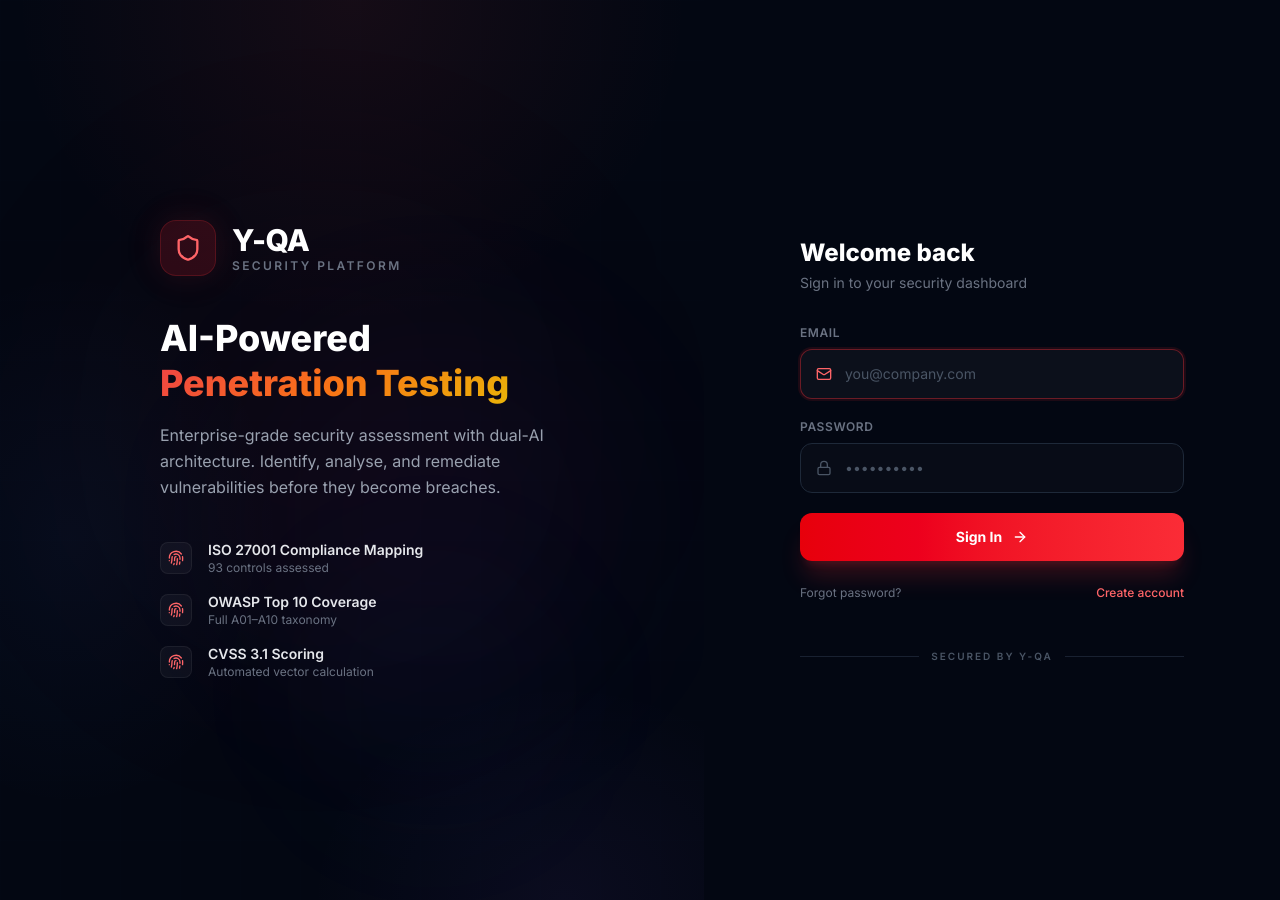
Test: Login › shows error message on login failure
Type "bad@example.com" into the field with placeholder "you@company.com".
click(992, 374); type("bad@example.com")  # box [800, 348, 1184, 398]
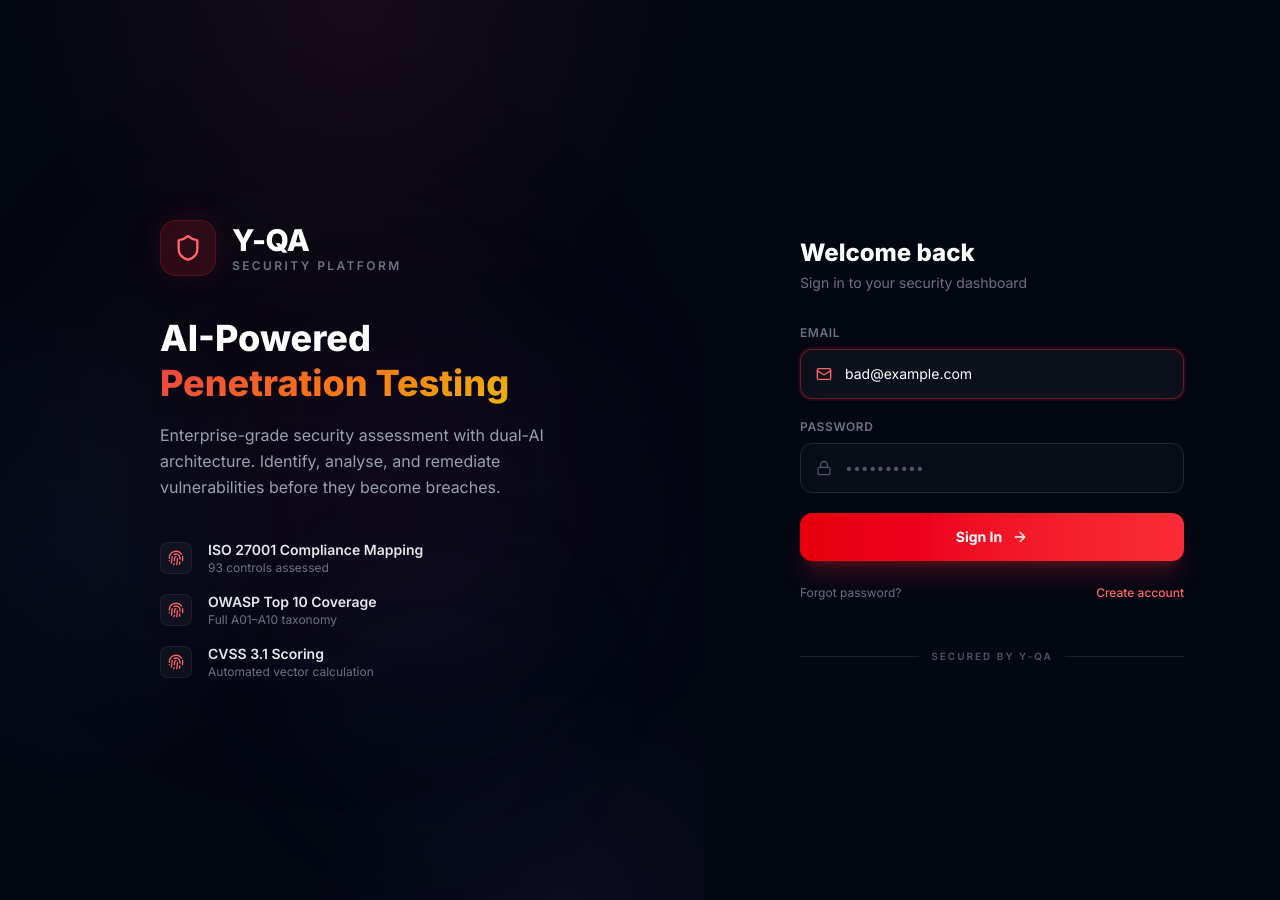
Type "wrongpass" into the password field with placeholder "••••••••••".
click(992, 468); type("wrongpass")  # box [800, 442, 1184, 492]
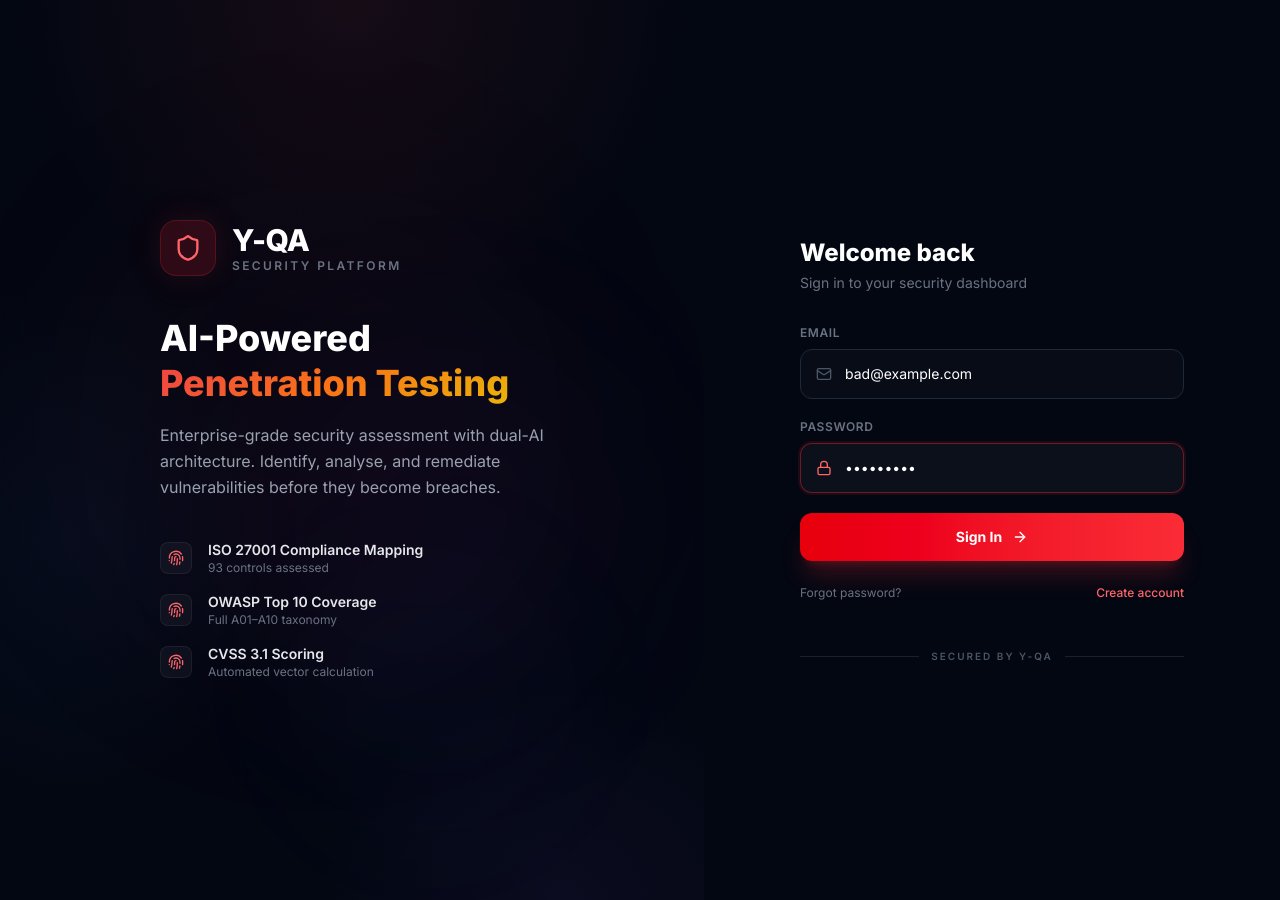
Click the button "Sign In".
click(992, 536)  # box [800, 512, 1184, 560]
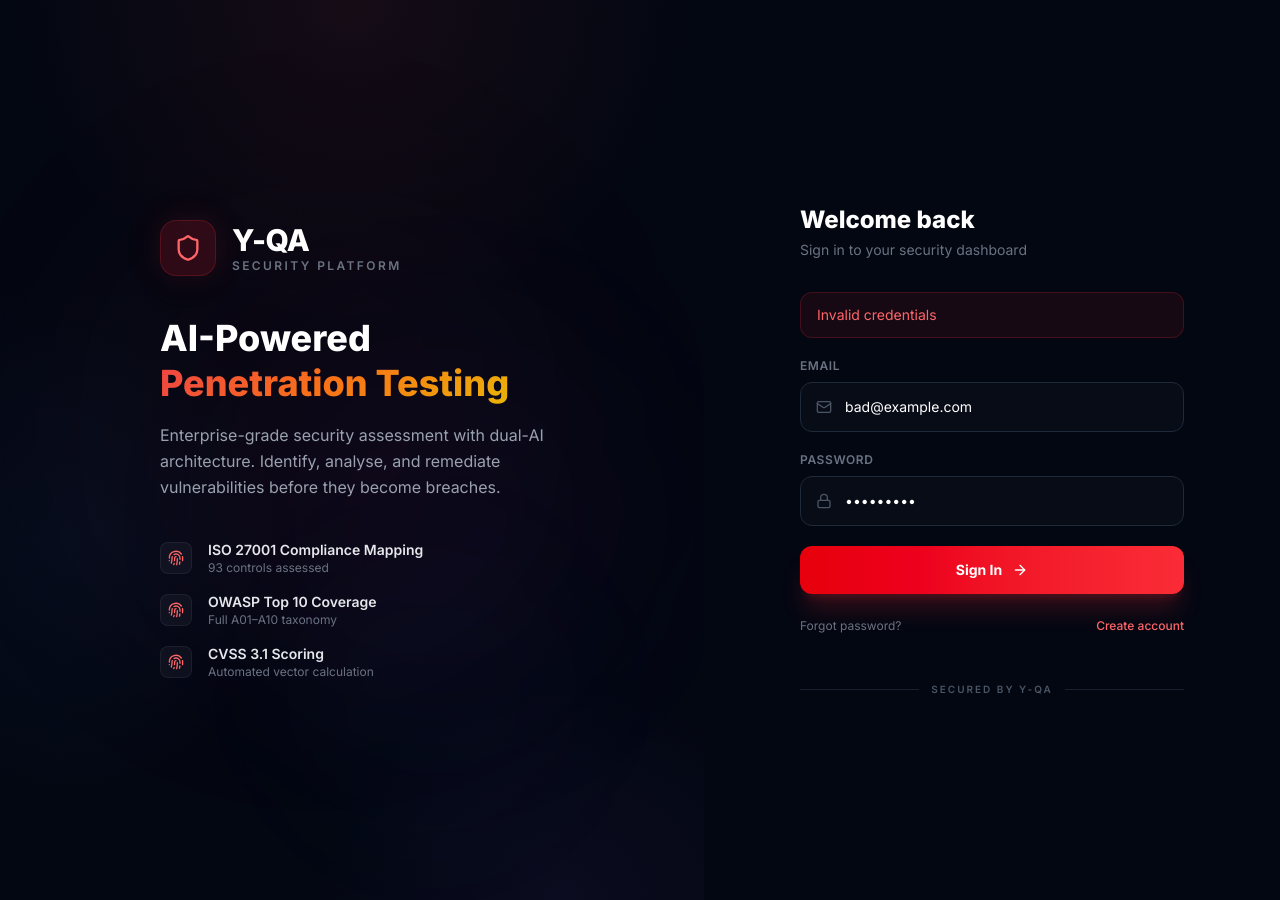
Expected: the text "Invalid credentials" is shown, [800, 292, 1184, 338]
